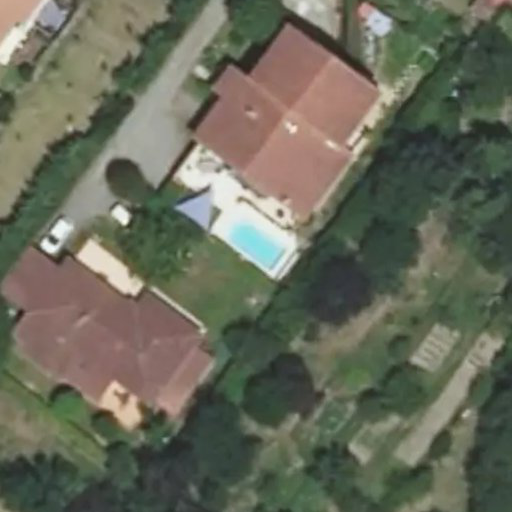pool: (212, 231, 291, 246)
